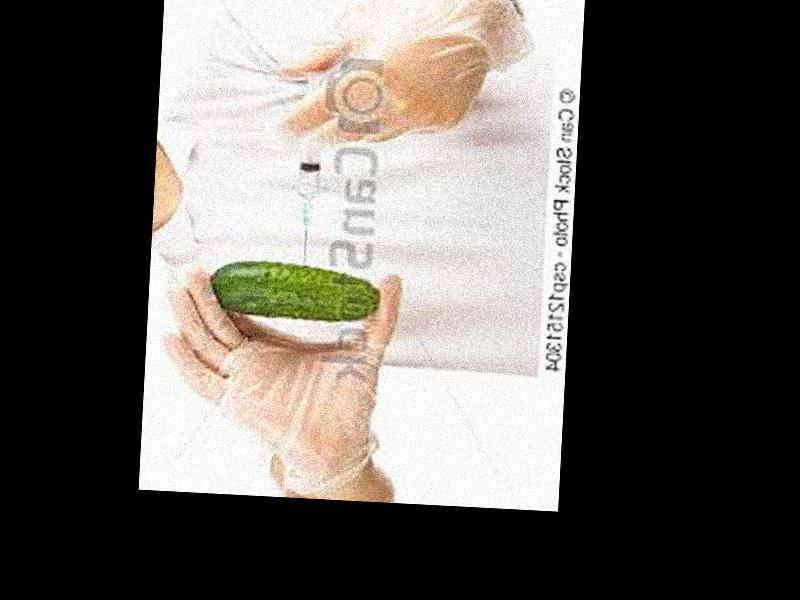Cucumber: (208, 261, 384, 326)
